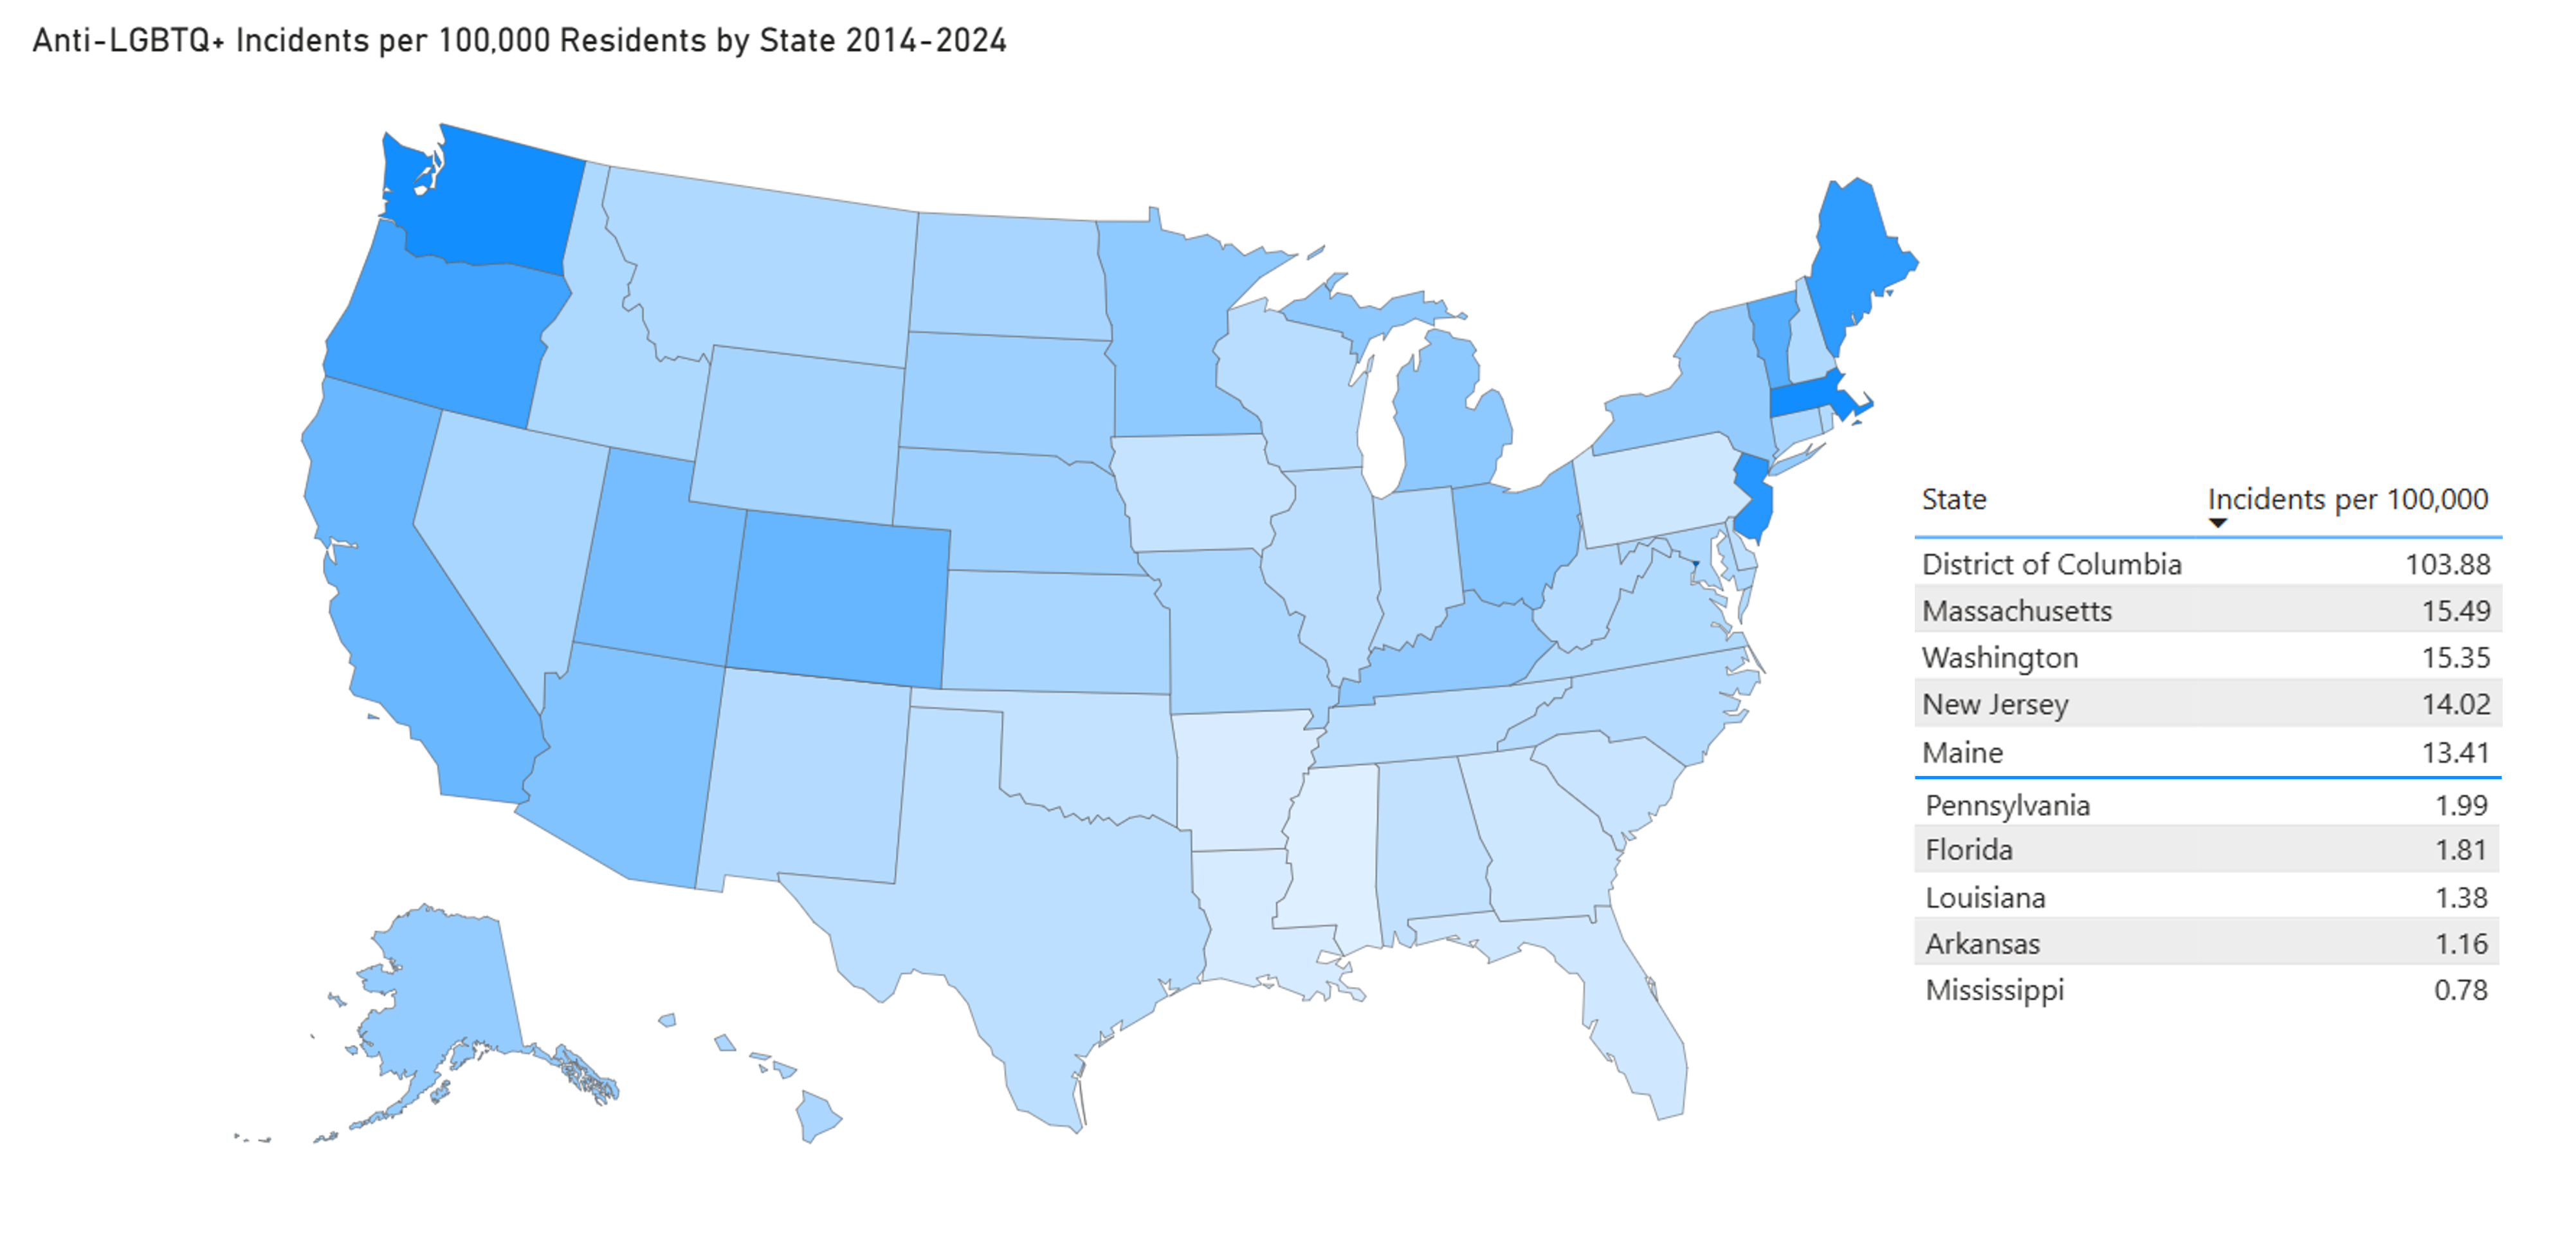

Layout of this report page (visuals, bound fields, positions):
{"tool":"powerbi","page":{"name":"LGBTQ Map","canvas":[1280,720],"ordinal":5},"visuals":[{"type":"shapeMap","title":"Anti-LGBTQ+ Incidents per 100,000 Residents by State 2015-2024","fields":{"Category":["State Incidents per Capita.State"],"Value":["Sum(State Incidents per Capita.LGBTQ Incidents per 100,000)"]},"box":[32.1,17,1218.9,684.1],"z":0}]}

Visuals, with their boxes on the page's 1280x720 design canvas (x1, y1, x2, y2). These are canvas units, not pixel positions in the 2576x1256 screenshot, which may show the page scaled, cropped or inside an application window:
"Anti-LGBTQ+ Incidents per 100,000 Residents by State 2015-2024" shapeMap: [32, 17, 1251, 701]
